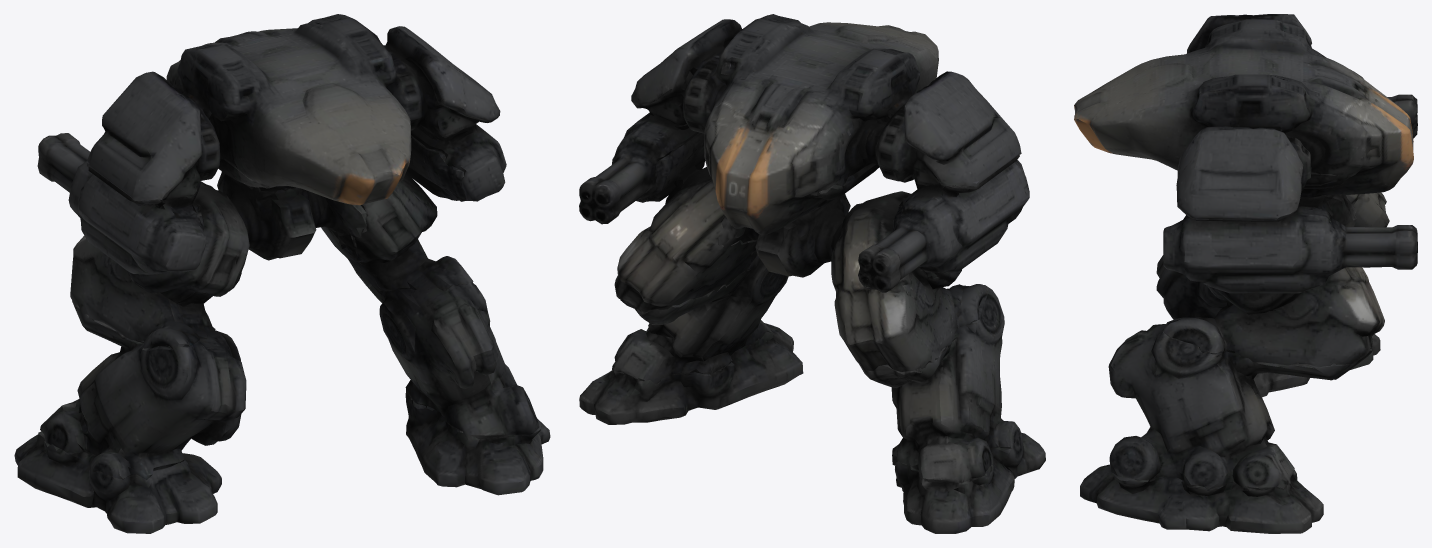
Rendered from hero_m1.glb.
The picture shows the model from 3 angles, left to right: view 1: azimuth 30°, elevation 25°; view 2: azimuth 150°, elevation 25°; view 3: azimuth 270°, elevation 25°; orthographic projection. The views are drawn at different scales.
Parts seen in each view (by area): view 1: hull, shin_l, shin_r, thigh_l, weapon_l, foot_l, thigh_r, foot_r, pelvis, weapon_r; view 2: hull, shin_l, thigh_l, thigh_r, weapon_l, shin_r, foot_r, foot_l, weapon_r, pelvis; view 3: hull, shin_r, weapon_r, thigh_r, foot_r, shin_l, thigh_l, foot_l, pelvis, weapon_l.
Part boxes in pixels (x1,y1,x2,y2): hull: (87,14,500,205); shin_l: (40,157,268,479); shin_r: (353,126,539,440); thigh_l: (70,181,249,351); weapon_l: (37,133,206,274); foot_l: (14,431,221,533); thigh_r: (321,135,473,291); foot_r: (405,393,550,495); pelvis: (216,171,366,260); weapon_r: (406,124,506,201); hull: (631,14,1021,234); shin_l: (819,163,1021,483); thigh_l: (831,191,988,371); thigh_r: (614,132,757,313); weapon_l: (858,155,1029,292); shin_r: (612,123,788,384); foot_r: (579,323,803,424); foot_l: (892,432,1045,533); weapon_r: (579,111,705,224); pelvis: (718,194,861,277); hull: (1074,14,1413,221); shin_r: (1108,172,1372,489); weapon_r: (1163,206,1417,293); thigh_r: (1163,267,1384,366); foot_r: (1080,464,1323,533); shin_l: (1156,255,1226,319); thigh_l: (1346,192,1389,227); foot_l: (1253,334,1380,397); pelvis: (1298,194,1356,226); weapon_l: (1387,94,1417,138).
Bounding box in the file's own units: 4.01 × 3.58 × 2.91.
Materials: 1 (1 with a texture image).
